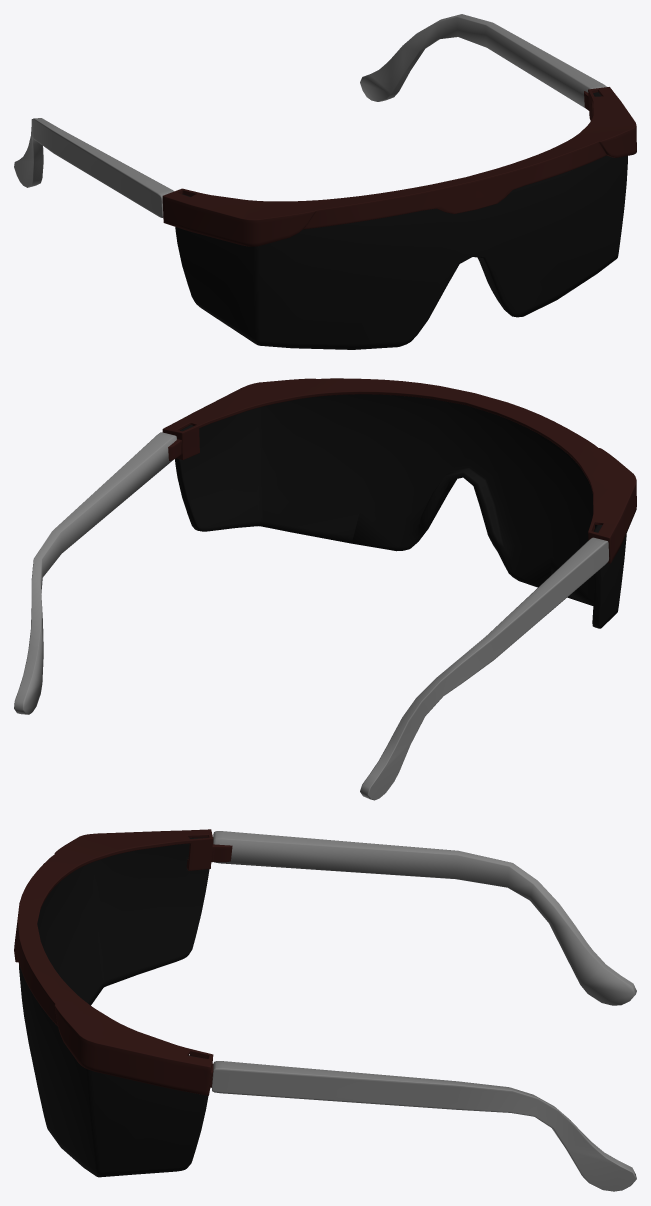
File: Gafas de seguridad.fbx
The picture shows the model from 3 angles, top to bottom: view 1: azimuth 30°, elevation 25°; view 2: azimuth 150°, elevation 25°; view 3: azimuth 270°, elevation 25°; orthographic projection. The views are drawn at different scales.
Parts seen in each view (by area): view 1: Glasses_Laser_Opened_003; view 2: Glasses_Laser_Opened_003; view 3: Glasses_Laser_Opened_003.
Part boxes in pixels (<box>): Glasses_Laser_Opened_003: <box>14,14,636,349</box>; Glasses_Laser_Opened_003: <box>14,378,636,800</box>; Glasses_Laser_Opened_003: <box>14,829,636,1191</box>.
Size of the model in its own units: 29.85 by 10.32 by 33.02.
